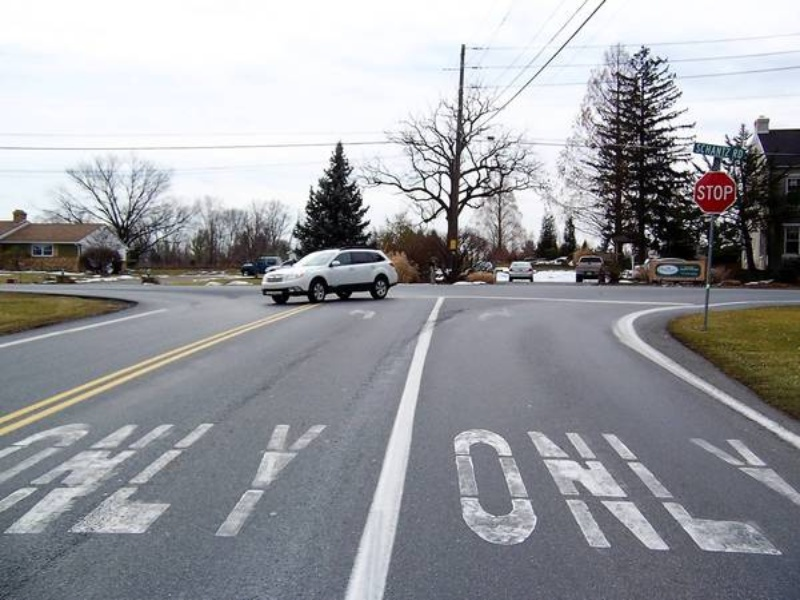stop sign: (690, 169, 739, 216)
